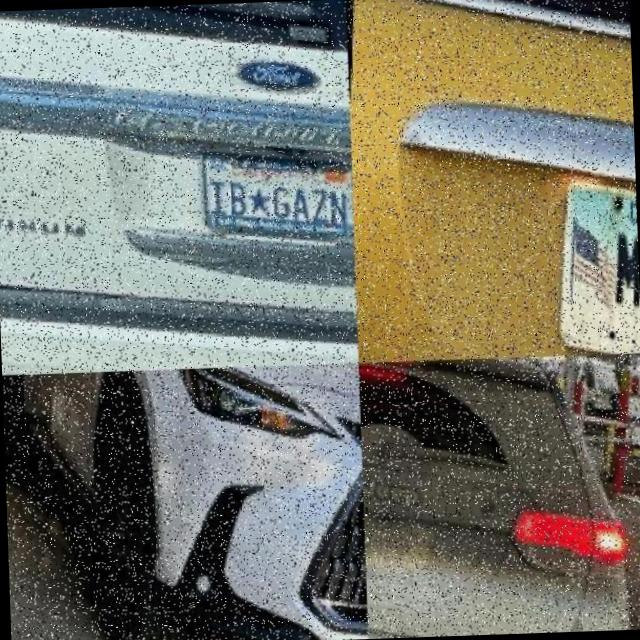LicensePlate: (553, 170, 640, 352), (195, 144, 353, 232), (362, 511, 434, 571)
